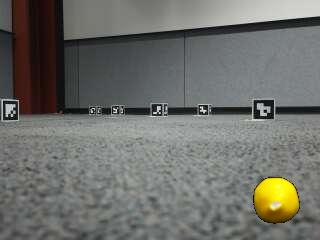lemon: (255, 179, 299, 224)
